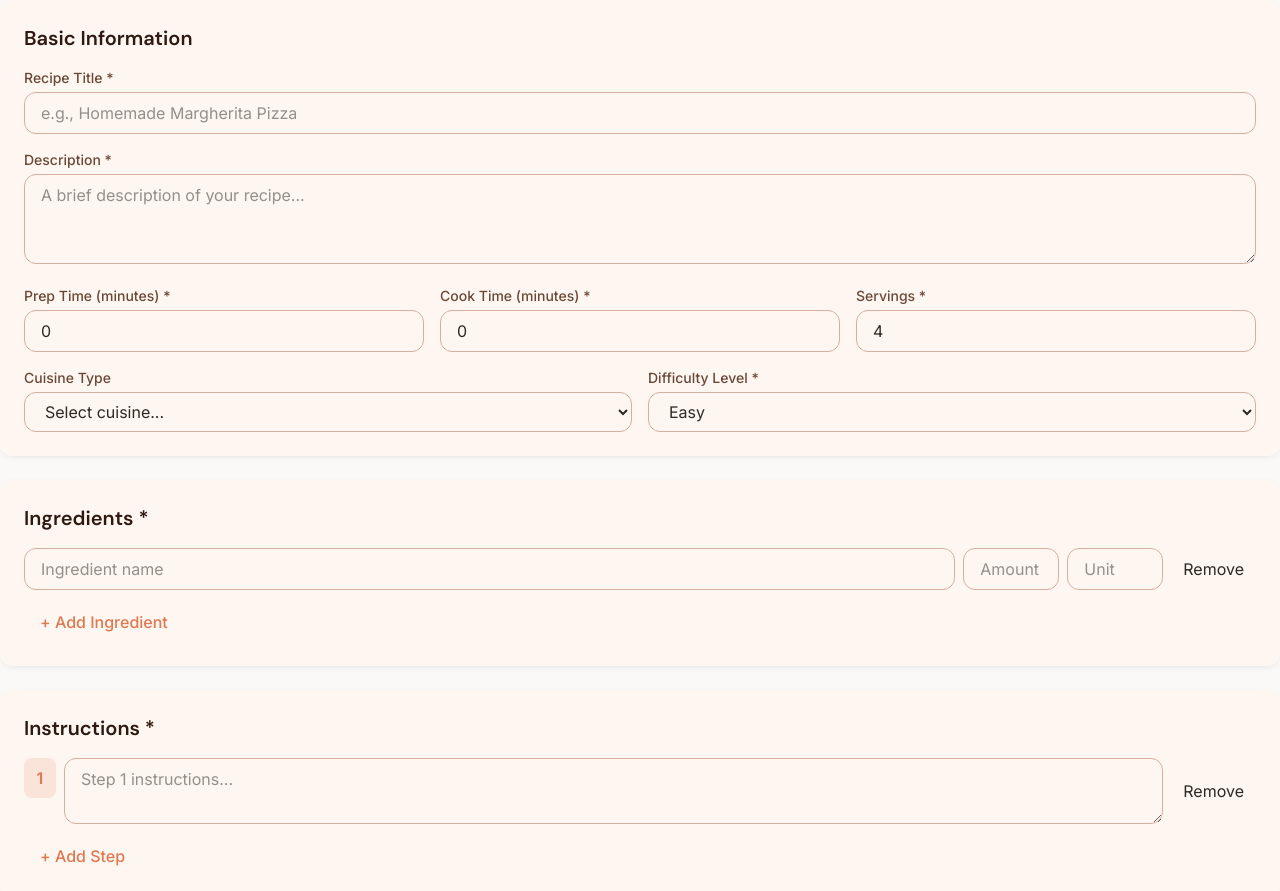
Test: RecipeForm › Ingredients Management › should add new ingredient
This screenshot has width=1280, height=891.
Click the button "+ Add Ingredient" at (104, 622), box [24,602,184,642]
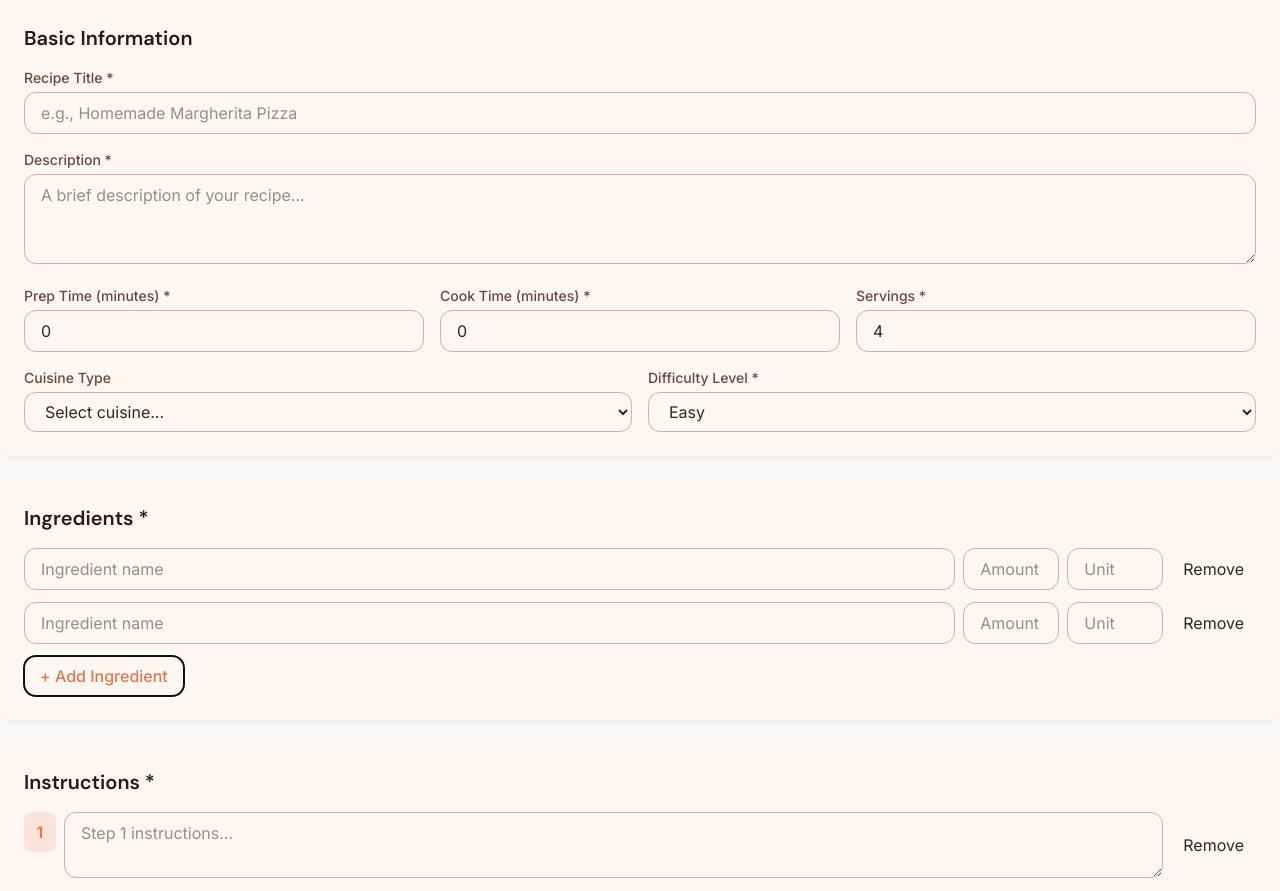
Expected: the number of fields with placeholder "Ingredient name" is 2, [24,548,955,590]; [24,602,955,644]
